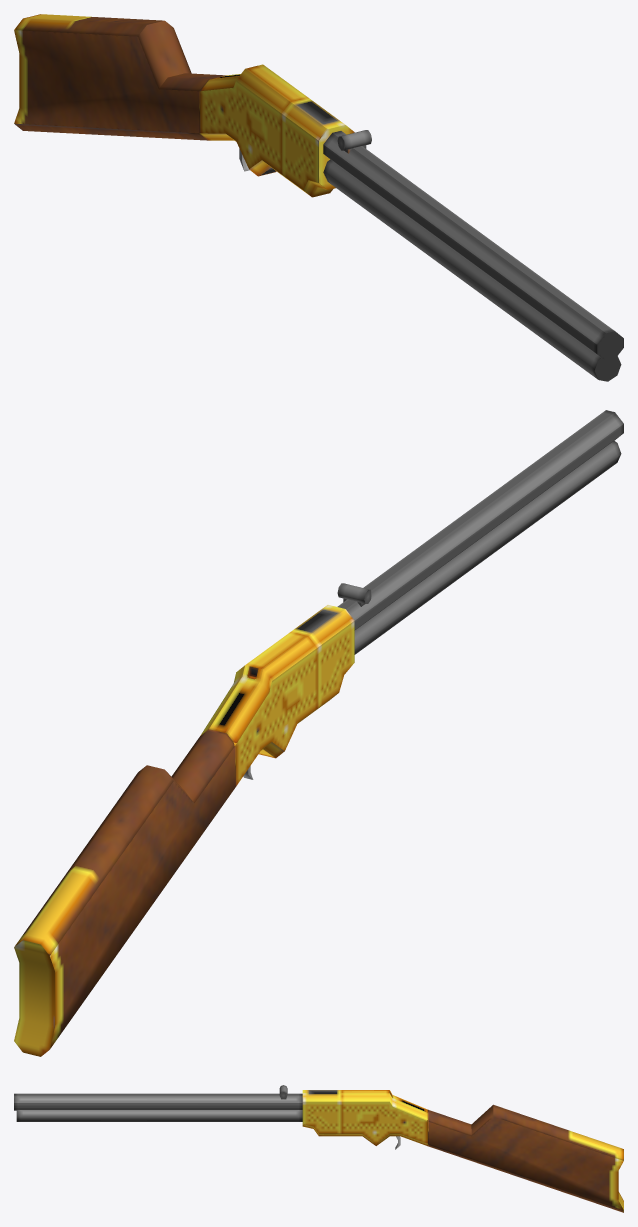
Rendered from henry_gun_lincoln.obj.
3 renders of one model, top to bottom at view 1: azimuth 30°, elevation 25°; view 2: azimuth 150°, elevation 25°; view 3: azimuth 270°, elevation 25°, orthographic. The views are drawn at different scales.
Visible parts, largest first — view 1: Gun; view 2: Gun; view 3: Gun.
Part boxes in pixels (x1,y1,x2,y2): Gun: (14,14,623,381); Gun: (14,410,623,1056); Gun: (14,1085,623,1212).
Bounding box in the file's own units: 0.5 × 3.09 × 14.
